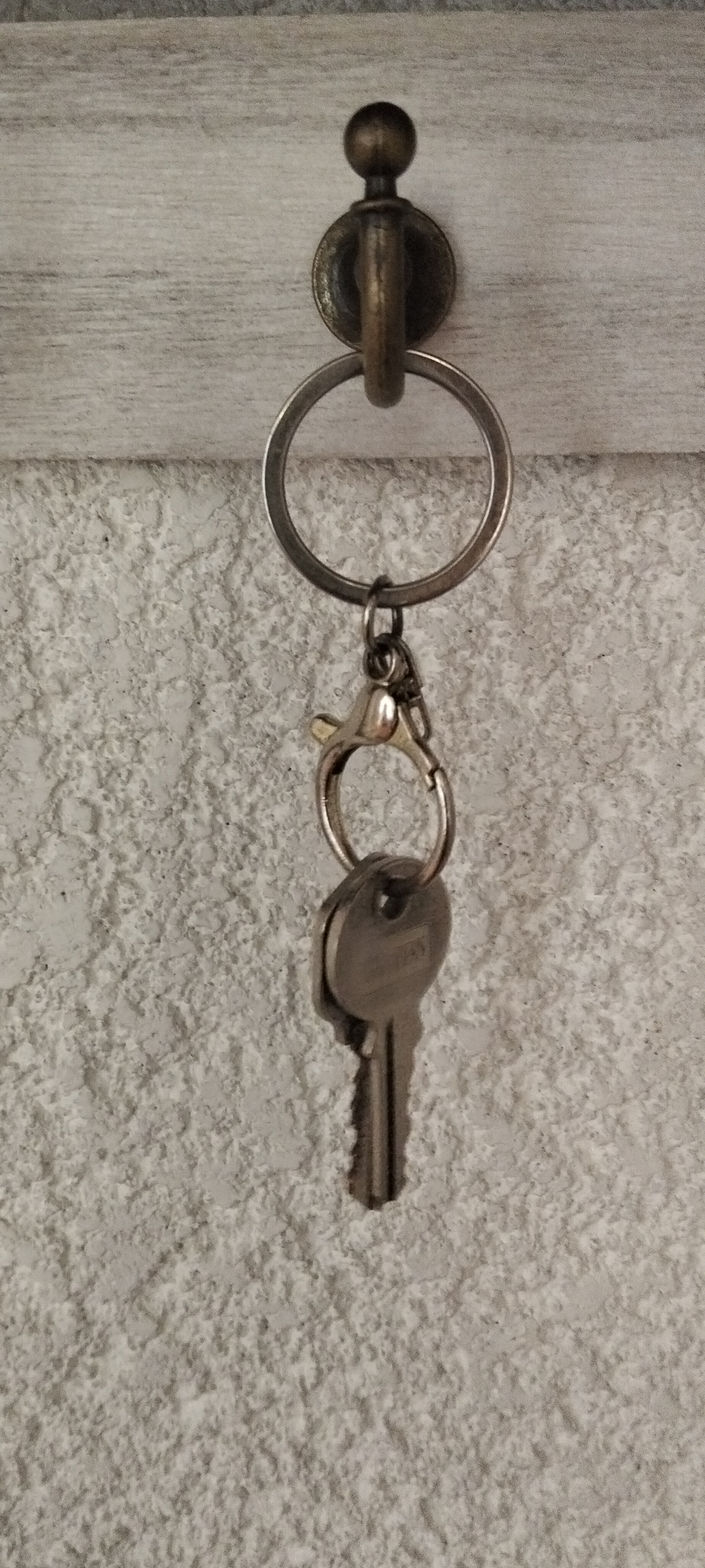llaves: (166, 339, 570, 1236)
